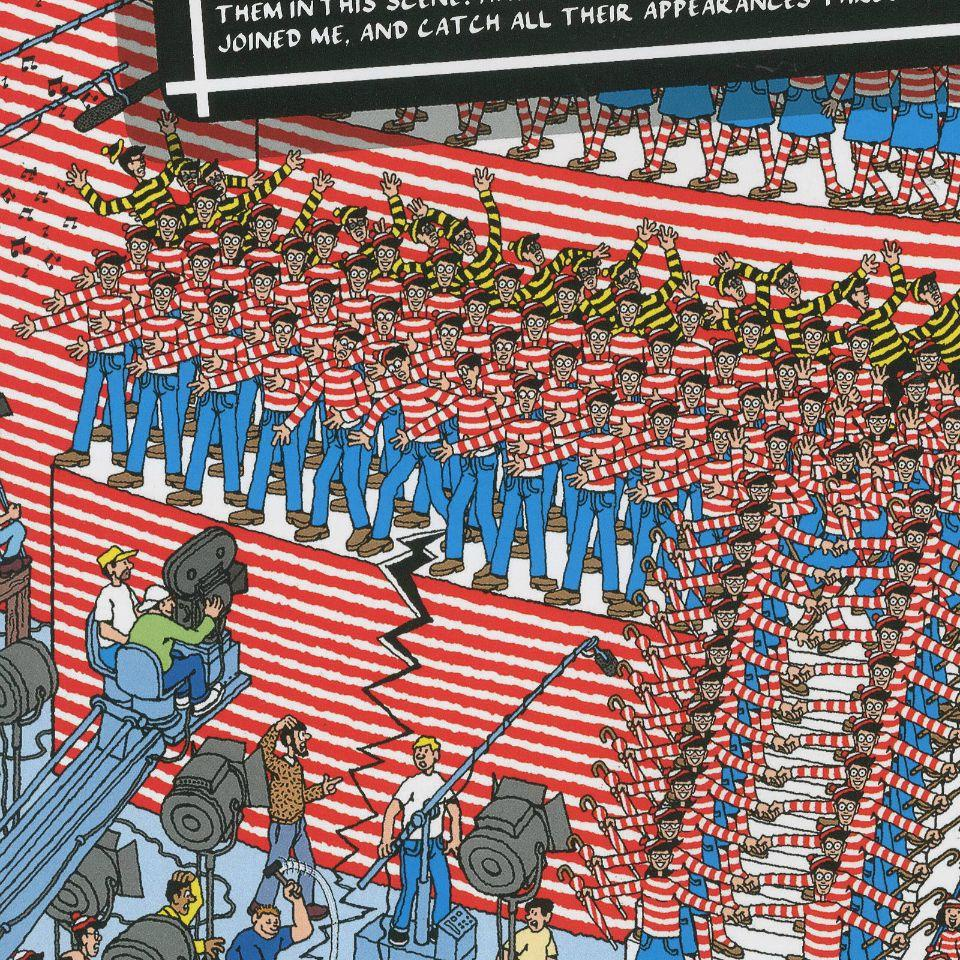waldo: (260, 306, 305, 409), (642, 398, 682, 502), (580, 385, 619, 489), (87, 246, 134, 332), (701, 413, 740, 515), (145, 267, 189, 347), (201, 285, 246, 360), (543, 342, 584, 419), (673, 295, 712, 371), (735, 308, 772, 385), (643, 325, 681, 398), (550, 271, 585, 347), (707, 336, 740, 415), (302, 272, 337, 346), (244, 202, 285, 263), (429, 246, 466, 313), (399, 271, 436, 338), (613, 287, 648, 357), (368, 230, 405, 296), (213, 218, 251, 282), (488, 260, 523, 329), (338, 250, 373, 319), (150, 199, 188, 262), (483, 325, 518, 393), (429, 309, 461, 383), (519, 298, 553, 367), (736, 381, 770, 449), (121, 221, 155, 287), (278, 236, 311, 303), (186, 180, 221, 242), (678, 369, 706, 445), (305, 217, 341, 273), (760, 424, 798, 477), (460, 285, 494, 343), (182, 240, 217, 294), (368, 294, 401, 349), (888, 441, 924, 490), (797, 314, 833, 358), (879, 578, 916, 619), (509, 371, 541, 417), (771, 348, 802, 395), (806, 855, 840, 897), (245, 258, 276, 304), (857, 683, 893, 722), (813, 824, 853, 859), (872, 613, 904, 654), (582, 315, 613, 357), (889, 545, 923, 583), (935, 404, 960, 455), (829, 355, 859, 397), (795, 385, 825, 427), (865, 649, 898, 687), (614, 355, 641, 401), (830, 783, 861, 823), (840, 750, 874, 786), (897, 514, 930, 551), (905, 486, 939, 521), (844, 321, 873, 362), (848, 715, 879, 752)
